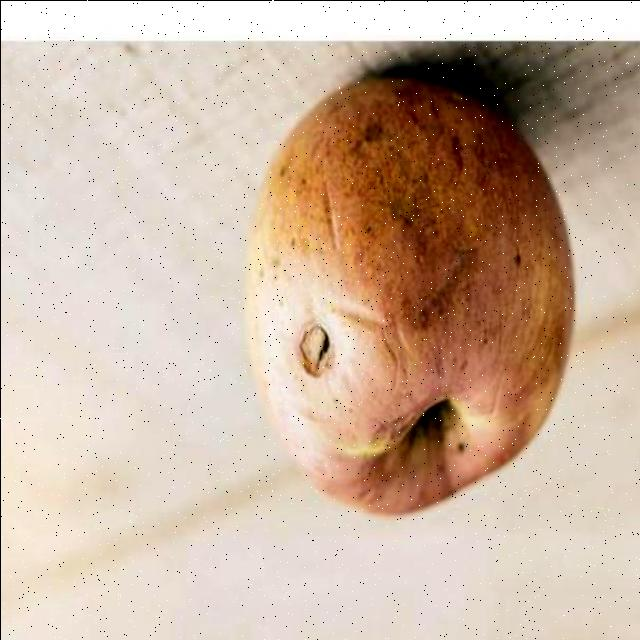ROT: (212, 73, 580, 543)
